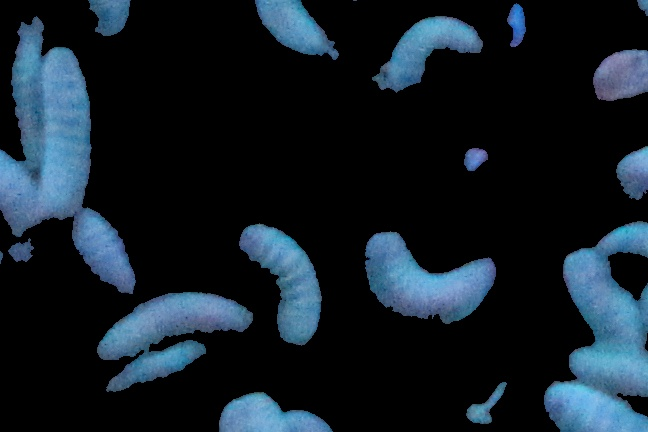larvae: (370, 9, 489, 96), (244, 215, 323, 346), (372, 239, 492, 322), (104, 295, 248, 364), (41, 47, 92, 219), (565, 246, 647, 338), (5, 18, 47, 151), (74, 210, 139, 295), (259, 1, 342, 65), (1, 145, 43, 261), (543, 384, 648, 429), (571, 335, 648, 395), (111, 350, 196, 393), (70, 1, 127, 43)
